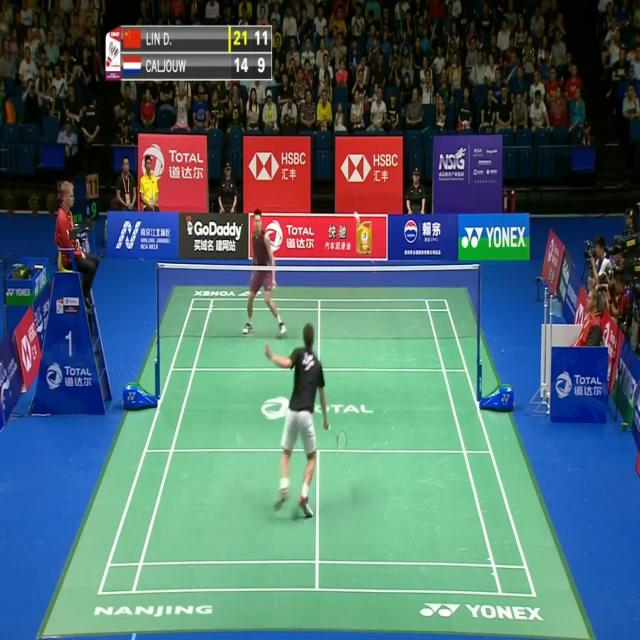Player1: (261, 317, 352, 522)
Player2: (236, 208, 292, 343)
